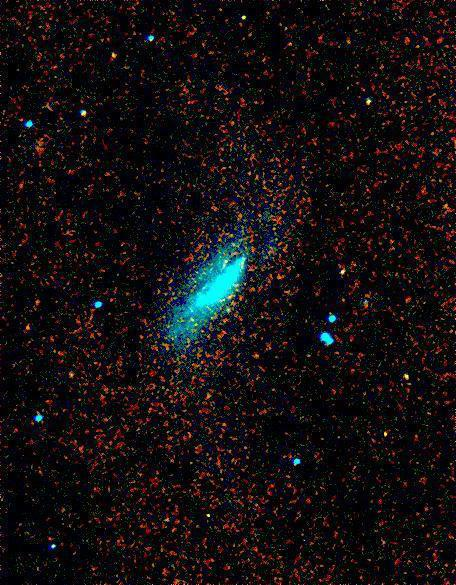star: (56, 355, 86, 385)
